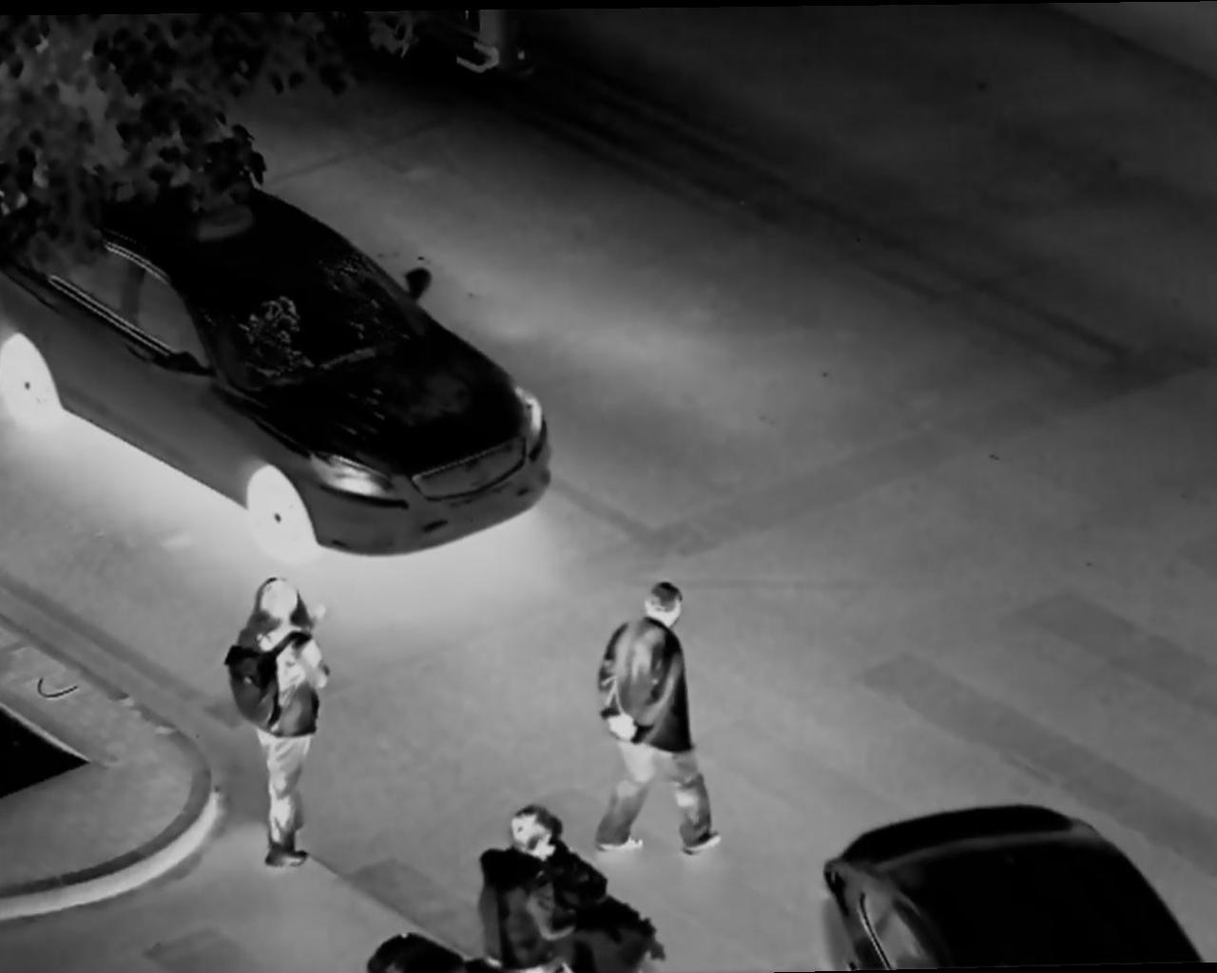person: (592, 578, 736, 858), (224, 576, 348, 876), (478, 800, 602, 973)
